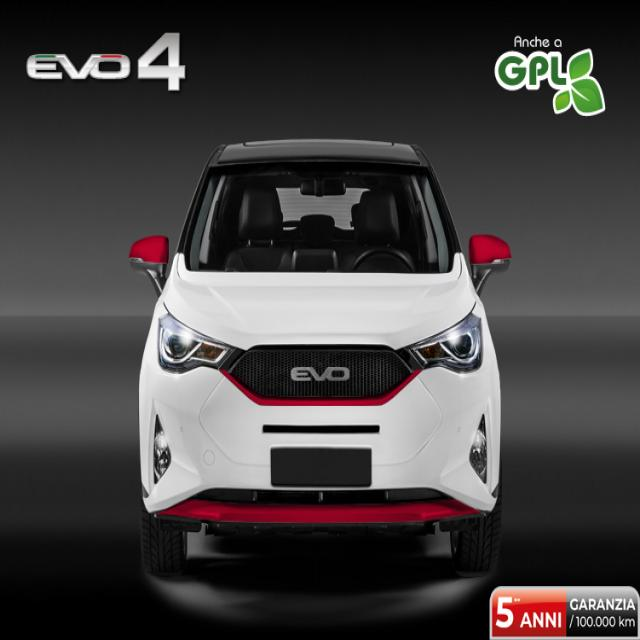yolov7-seg-car: (128, 138, 512, 579)
